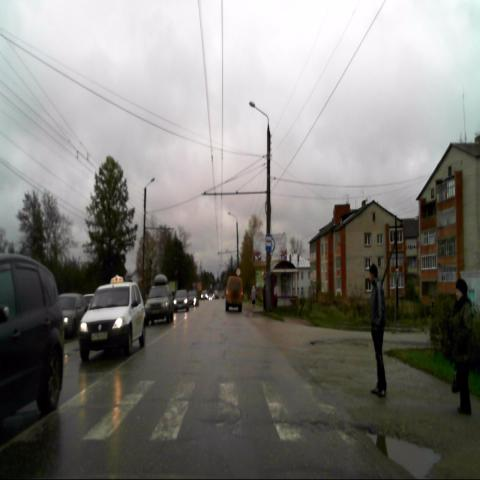5_16: (265, 234, 272, 251)
